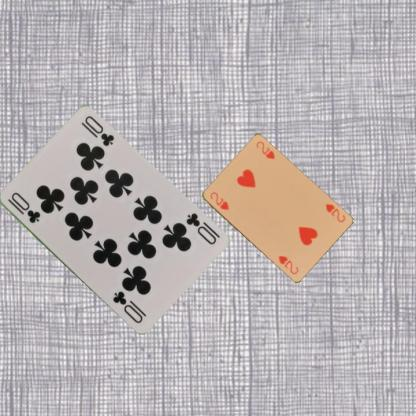10c: (4, 190, 42, 224), (183, 210, 217, 246)
2h: (322, 201, 346, 224), (207, 189, 230, 211)
